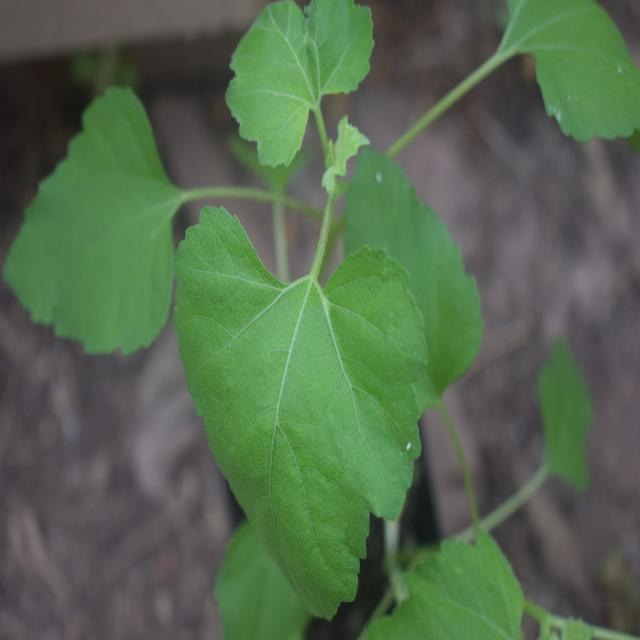cocklebur: (38, 4, 509, 623)
